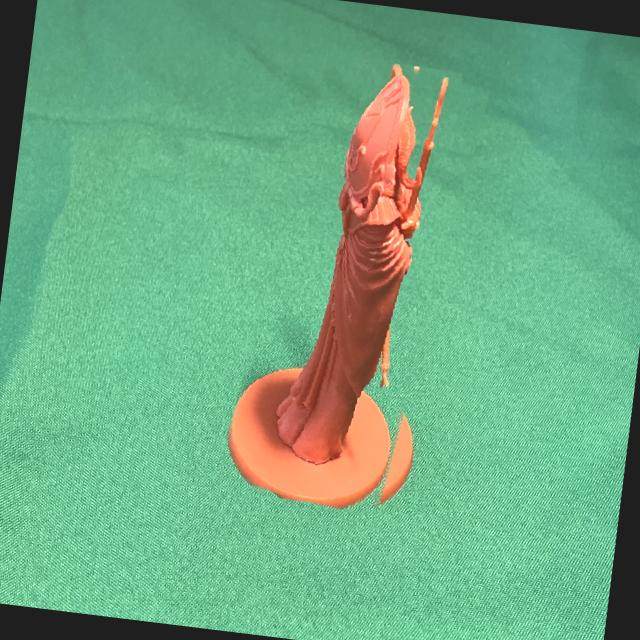amon: (228, 45, 478, 520)
